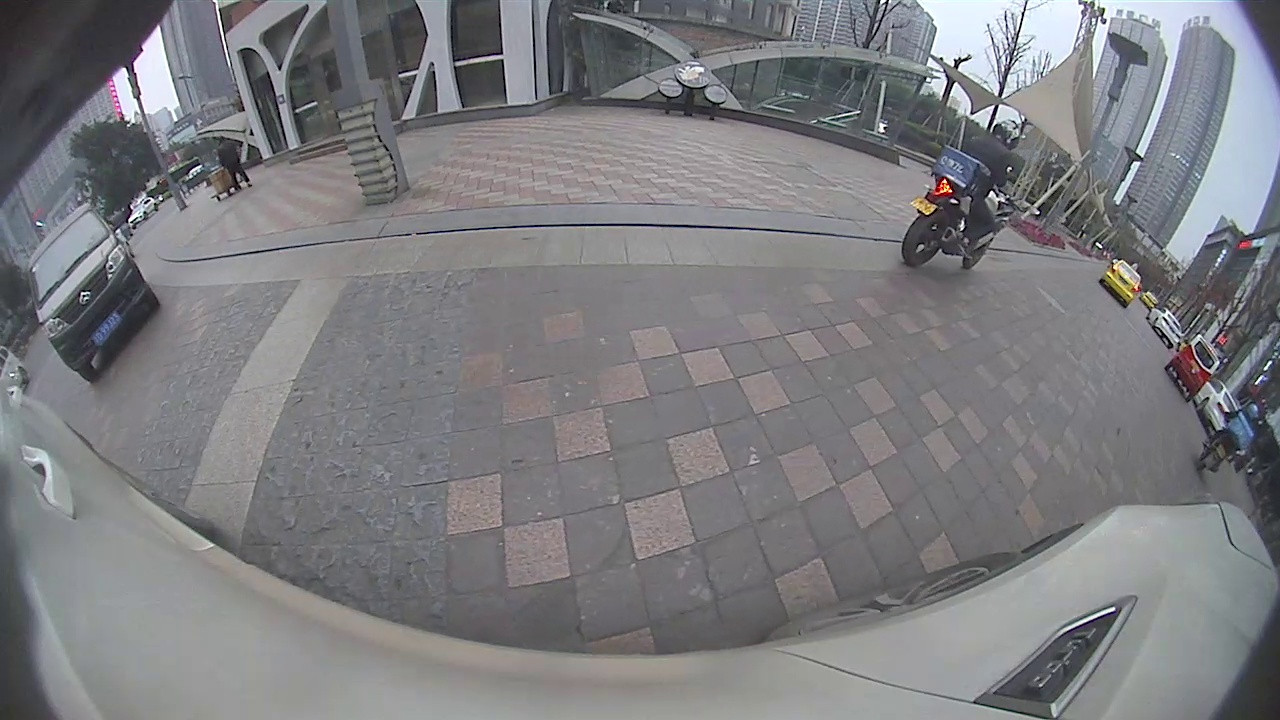car: (26, 202, 160, 382), (1165, 332, 1220, 401), (1098, 257, 1142, 307)
rear: (903, 214, 945, 265)
rider: (898, 116, 1022, 270), (1195, 402, 1261, 473)
